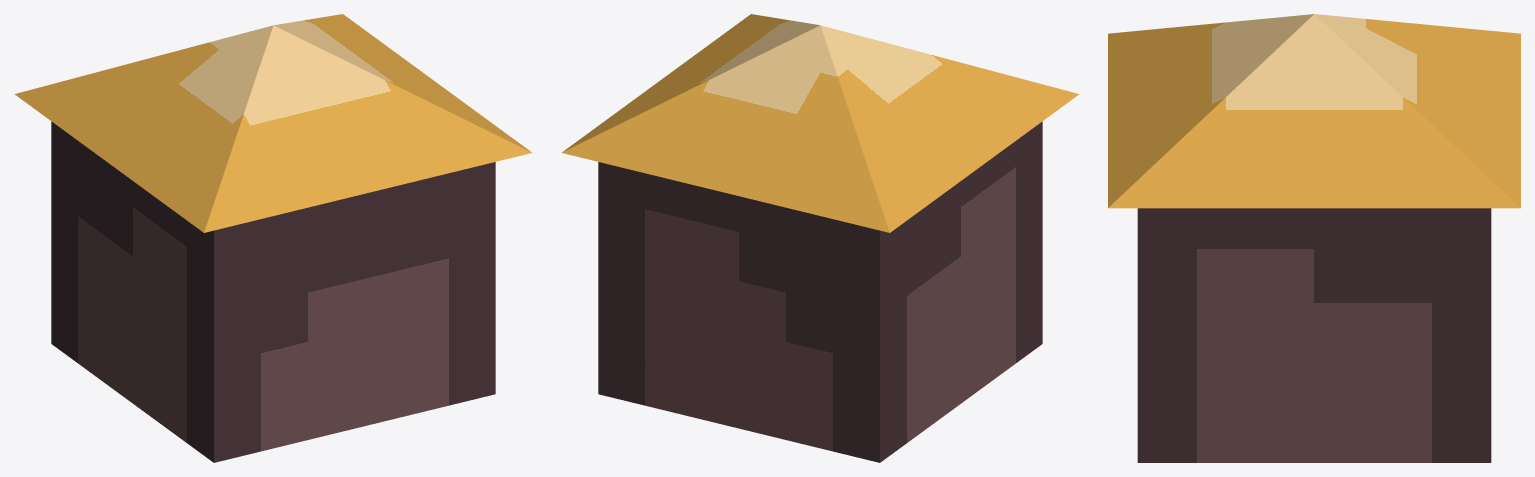
File: TempHouse2.gltf
The picture shows the model from 3 angles, left to right: view 1: azimuth 30°, elevation 25°; view 2: azimuth 150°, elevation 25°; view 3: azimuth 270°, elevation 25°; orthographic projection. The views are drawn at different scales.
Parts seen in each view (by area): view 1: cube, pyramid; view 2: cube, pyramid; view 3: cube, pyramid.
Part boxes in pixels (x1,y1,x2,y2): cube: (51, 121, 495, 462); pyramid: (14, 14, 532, 232); cube: (598, 121, 1042, 462); pyramid: (561, 14, 1079, 232); cube: (1137, 208, 1491, 462); pyramid: (1108, 14, 1520, 208).
Bounding box in the file's own units: 0.4375 × 0.4375 × 0.4375.
Materials: 1 (1 with a texture image).
